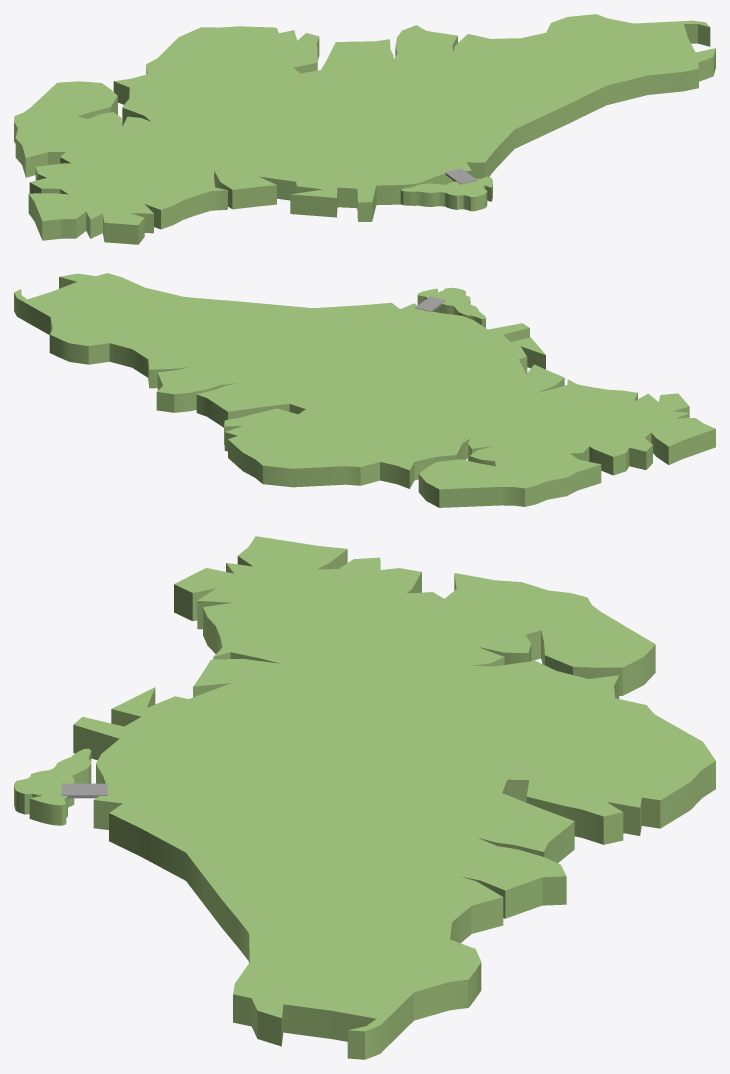
File: SGPlane.fbx
3 renders of one model, top to bottom at view 1: azimuth 30°, elevation 25°; view 2: azimuth 150°, elevation 25°; view 3: azimuth 270°, elevation 25°, orthographic. The views are drawn at different scales.
Parts seen in each view (by area): view 1: Singapore, Sentosa; view 2: Singapore, Sentosa; view 3: Singapore, Sentosa.
Part boxes in pixels (x1,y1,x2,y2): Singapore: (14,14,715,244); Sentosa: (400,176,492,211); Singapore: (14,273,715,507); Sentosa: (417,287,485,327); Singapore: (73,536,715,1059); Sentosa: (14,748,91,825).
Size of the model in its own units: 460 by 12.59 by 275.
